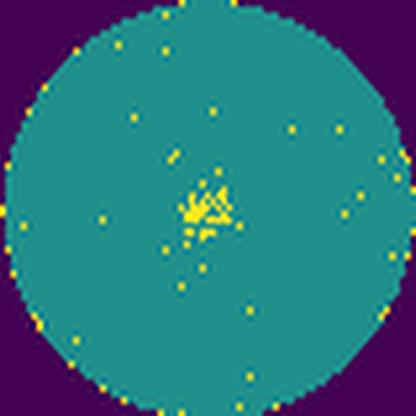Center: (178, 186, 236, 228)
